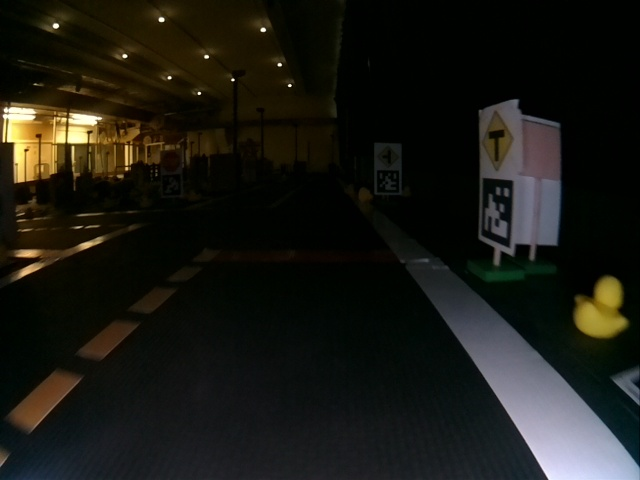Duckie: (573, 277, 625, 339), (357, 188, 369, 198)
Intersection sign: (481, 110, 515, 170), (377, 144, 401, 161)
QR code: (481, 177, 514, 246), (375, 171, 400, 192), (162, 174, 182, 194)
Stop sign: (161, 151, 180, 172)
